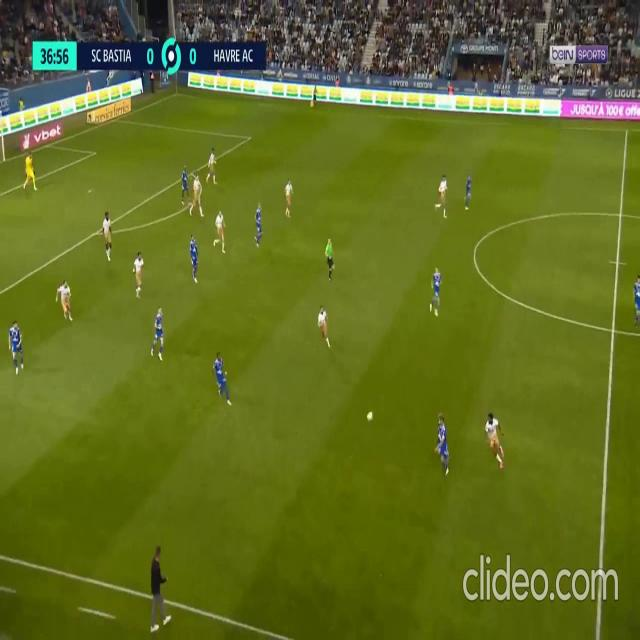ball: (367, 411, 373, 423)
goalkeeper: (22, 154, 38, 192)
player: (485, 412, 506, 468), (434, 412, 450, 476), (212, 352, 231, 404), (9, 318, 23, 375), (150, 304, 164, 360), (56, 280, 73, 322), (213, 207, 227, 253), (317, 305, 331, 347), (132, 250, 144, 298), (430, 265, 441, 316), (190, 174, 203, 217), (101, 212, 112, 261), (435, 174, 448, 214), (189, 234, 199, 284), (206, 147, 218, 185), (180, 164, 191, 204), (632, 275, 640, 326), (284, 178, 294, 218), (254, 204, 263, 246), (464, 173, 472, 211)
referee: (325, 236, 335, 281), (309, 84, 317, 108)
